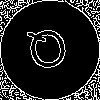Q: (25, 25, 72, 80)
